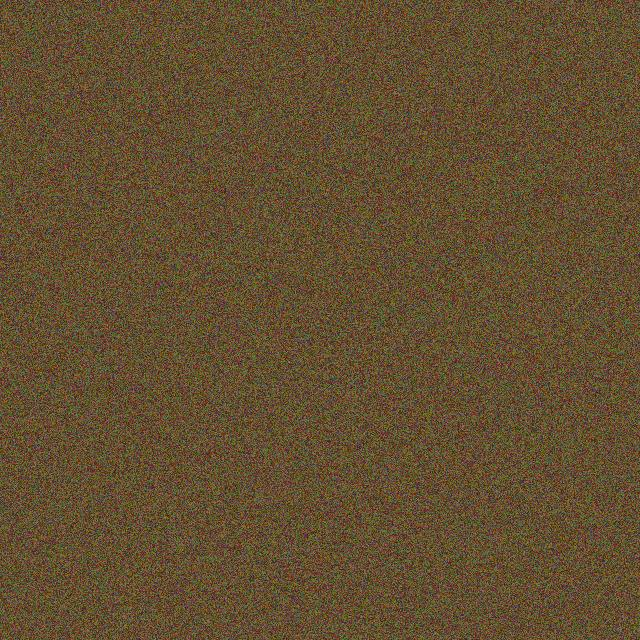ghost_net: (420, 260, 538, 356)
